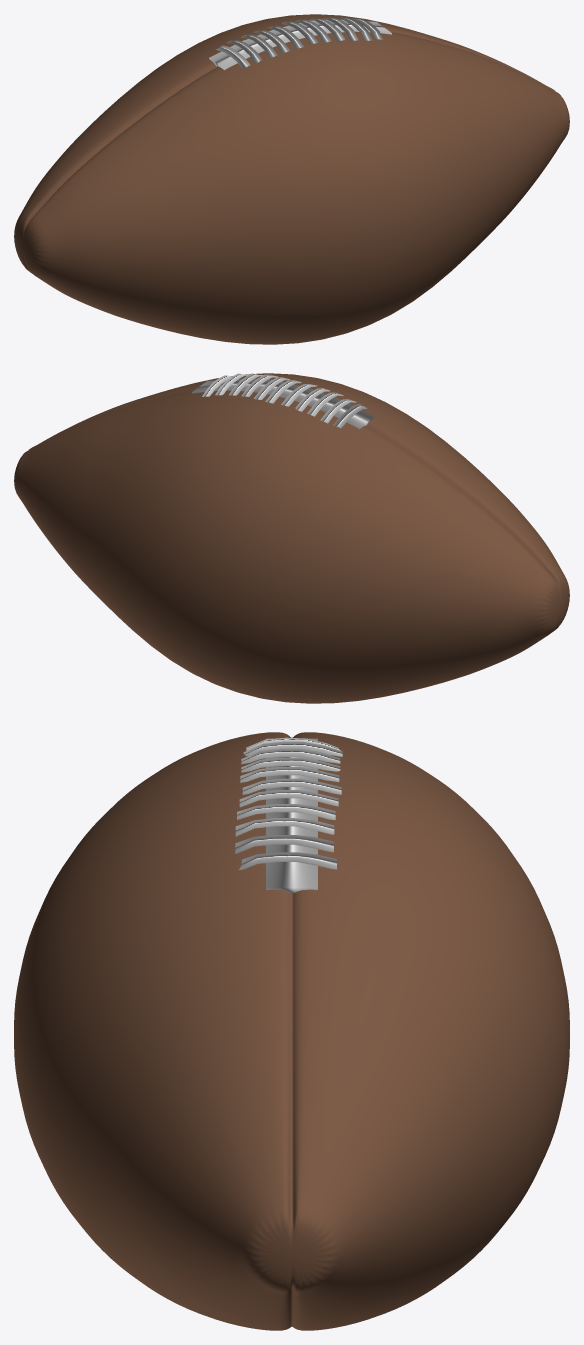
File: uploads_files_3253216_FootballforCG.fbx
The picture shows the model from 3 angles, top to bottom: view 1: azimuth 30°, elevation 25°; view 2: azimuth 150°, elevation 25°; view 3: azimuth 270°, elevation 25°; orthographic projection. The views are drawn at different scales.
Visible parts, largest first — view 1: Cylinder, Plane.004; view 2: Cylinder, Plane.004; view 3: Cylinder, Plane.004, Plane.016, Plane.012, Plane.015, Plane.014, Plane.013, Plane.006, Plane.007, Plane.009, Plane.008, Plane.010.
Boxes of the visible parts, x1,y1,x2,y2 form: Cylinder: (14,14,569,344); Plane.004: (209,19,391,70); Cylinder: (14,373,569,703); Plane.004: (192,378,374,429); Cylinder: (14,732,569,1330); Plane.004: (266,738,317,892); Plane.016: (235,835,333,853); Plane.012: (239,852,336,869); Plane.015: (235,818,334,836); Plane.014: (237,804,335,819); Plane.013: (239,790,338,807); Plane.006: (242,778,341,794); Plane.007: (240,767,339,782); Plane.009: (241,748,340,764); Plane.008: (241,757,340,772); Plane.010: (243,741,342,756).
Bounding box in the file's own units: 105 × 55.37 × 54.83.
